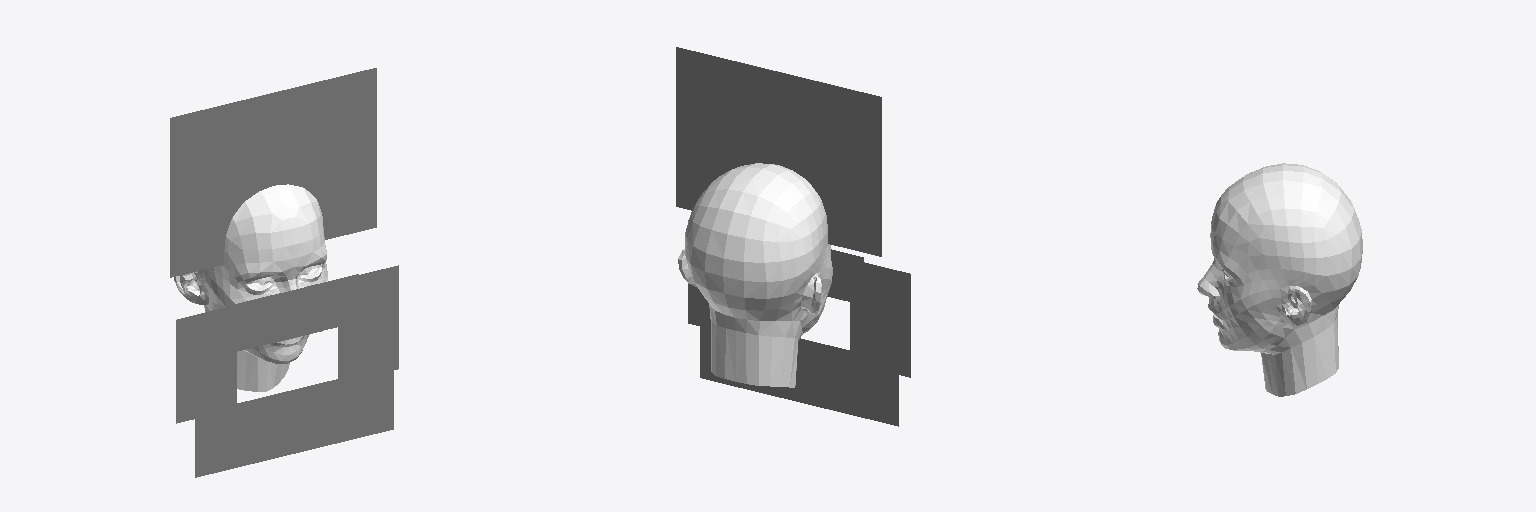
The model's file is happynewyaer.obj.
3 views of the same model, side by side, from view 1: azimuth 30°, elevation 25°; view 2: azimuth 150°, elevation 25°; view 3: azimuth 270°, elevation 25° (orthographic).
Parts seen in each view (by area): view 1: Plane006, basehead, Plane008, Plane009, Plane010, Plane004, Plane007, Plane005; view 2: Plane006, basehead, Plane008, Plane009, Plane004, Plane010; view 3: basehead.
Part boxes in pixels (bbox=[...]): Plane006: bbox=[170, 68, 376, 277]; basehead: bbox=[174, 184, 327, 391]; Plane008: bbox=[195, 365, 393, 477]; Plane009: bbox=[176, 307, 236, 423]; Plane010: bbox=[338, 265, 398, 378]; Plane004: bbox=[227, 293, 279, 353]; Plane007: bbox=[278, 283, 323, 341]; Plane005: bbox=[307, 274, 358, 329]; Plane006: bbox=[676, 47, 881, 256]; basehead: bbox=[678, 163, 832, 387]; Plane008: bbox=[700, 327, 898, 426]; Plane009: bbox=[850, 259, 910, 377]; Plane004: bbox=[827, 249, 863, 301]; Plane010: bbox=[688, 220, 710, 328]; basehead: bbox=[1197, 163, 1362, 396].
Size of the model in its own units: 0.2921 by 0.4324 by 0.1883.